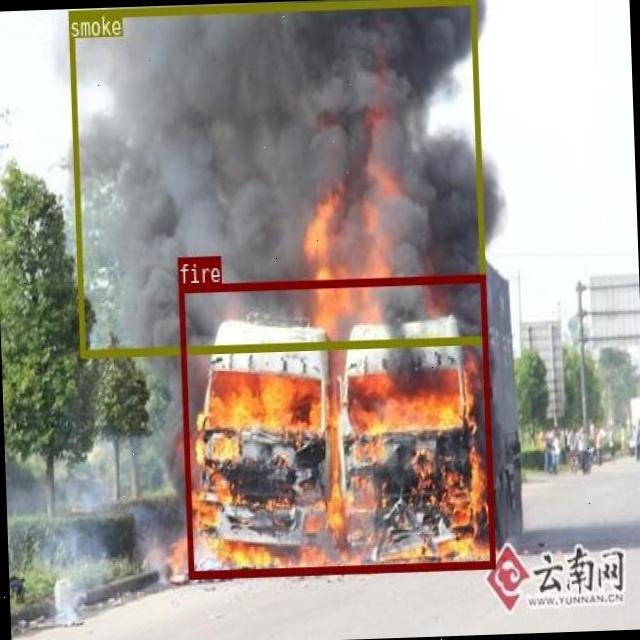fire: (178, 273, 494, 577)
smoke: (67, 0, 486, 356)
